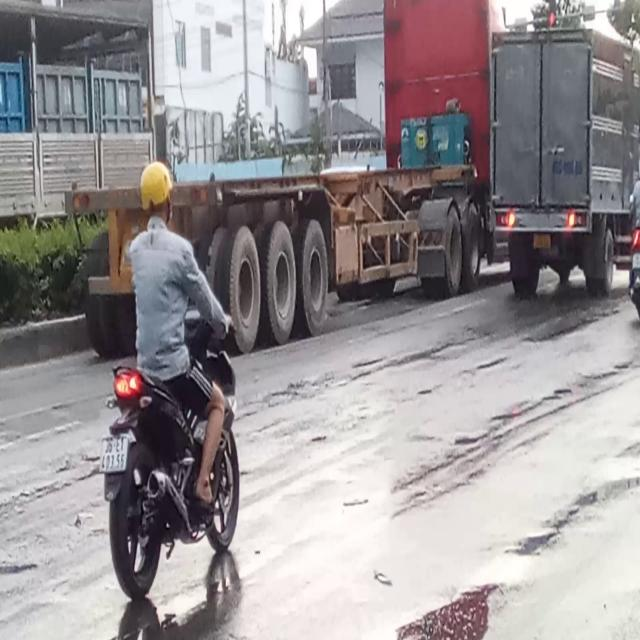bien_trang: (99, 438, 128, 471)
